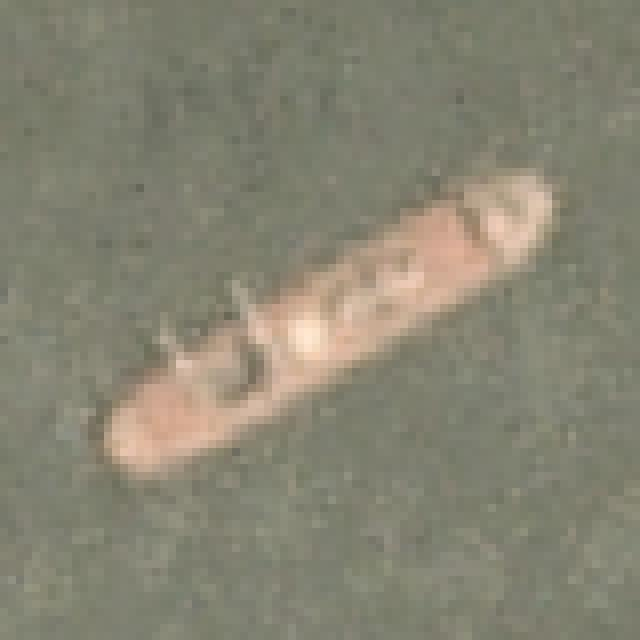ship: (73, 134, 588, 514)
